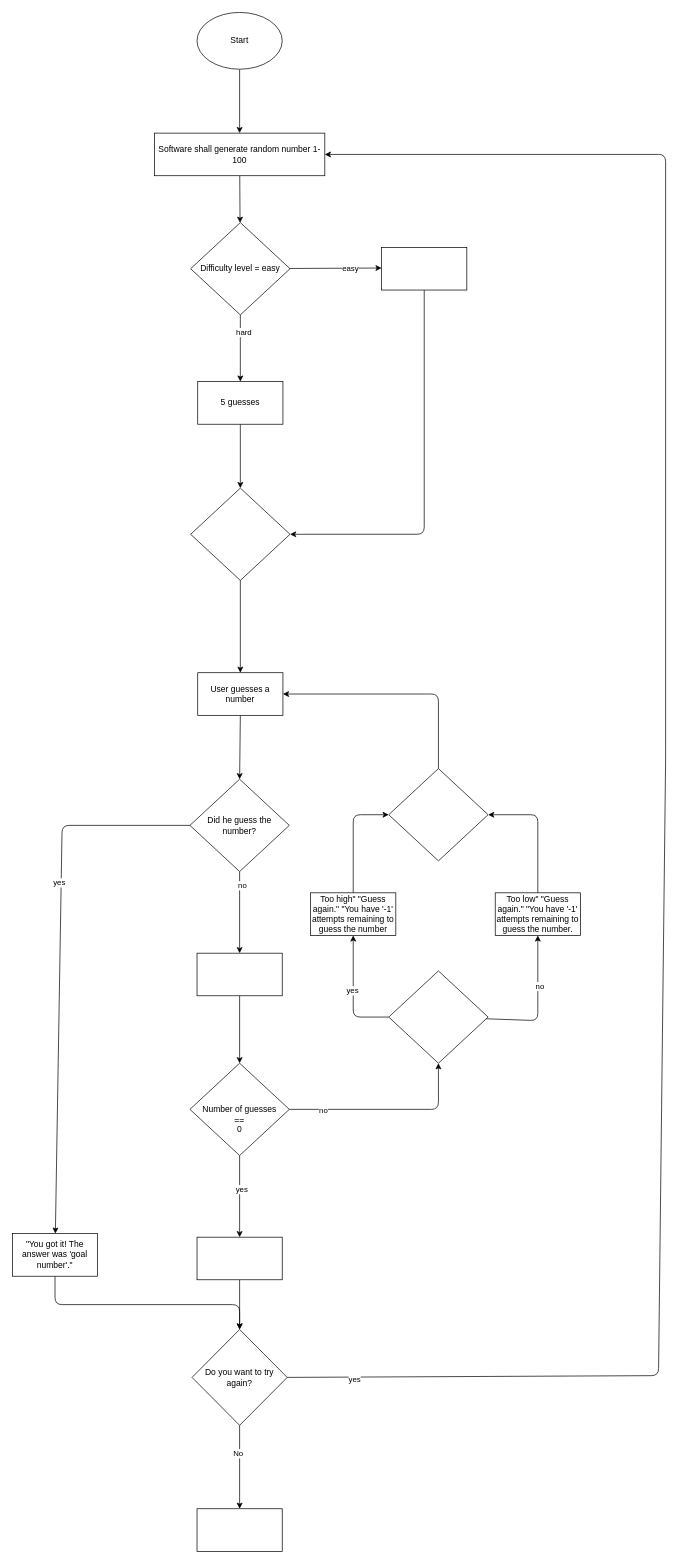
Some shapes in this 684 by 1564 pixel diagram are drawn without their labels. Here are the shapes that lost their labels. From the top down, the centre of each, then its label:
the point at 424,268: 10 guesses
the point at 239,974: Number of guesses -= 1
the point at 438,1016: Guessed number > goal number?
the point at 239,1258: No attempts remaining." "Game Over!
the point at 239,1529: END
